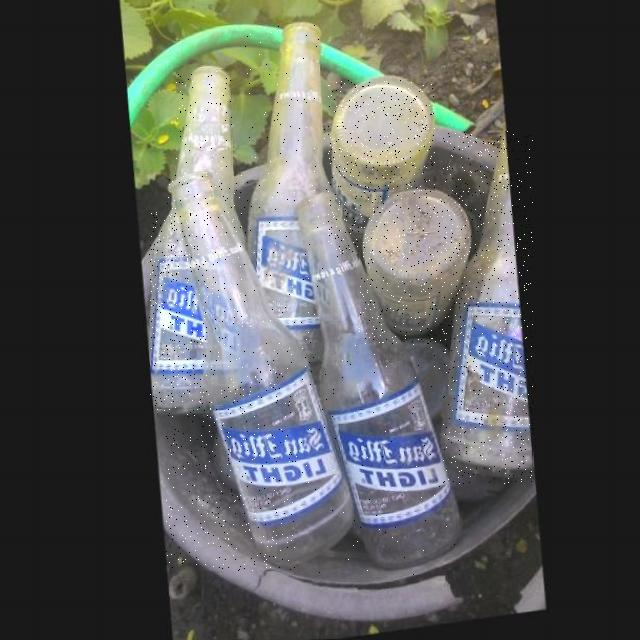glass: (166, 173, 355, 571), (295, 196, 461, 574), (444, 131, 533, 484), (245, 24, 325, 369), (328, 80, 435, 254), (360, 192, 472, 346), (149, 211, 208, 417), (176, 69, 232, 219)
